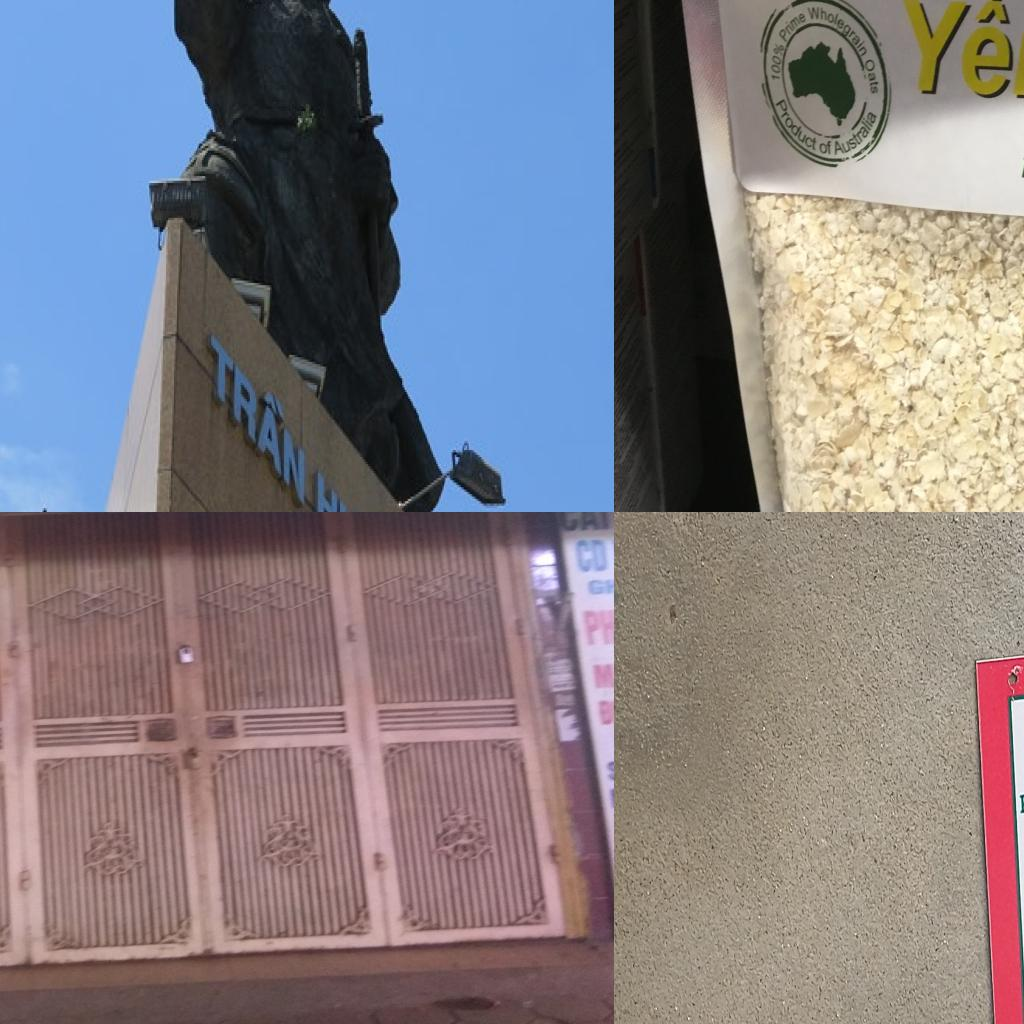text: (202, 322, 306, 508), (895, 0, 1024, 102), (805, 0, 890, 60), (315, 464, 406, 512), (832, 108, 886, 168), (771, 96, 819, 162), (580, 607, 614, 653), (775, 5, 809, 44), (572, 538, 610, 572), (555, 512, 613, 534), (864, 50, 882, 99), (589, 654, 614, 689), (595, 690, 614, 732), (770, 38, 787, 82), (586, 576, 614, 597), (817, 138, 833, 159), (1016, 786, 1024, 816)
